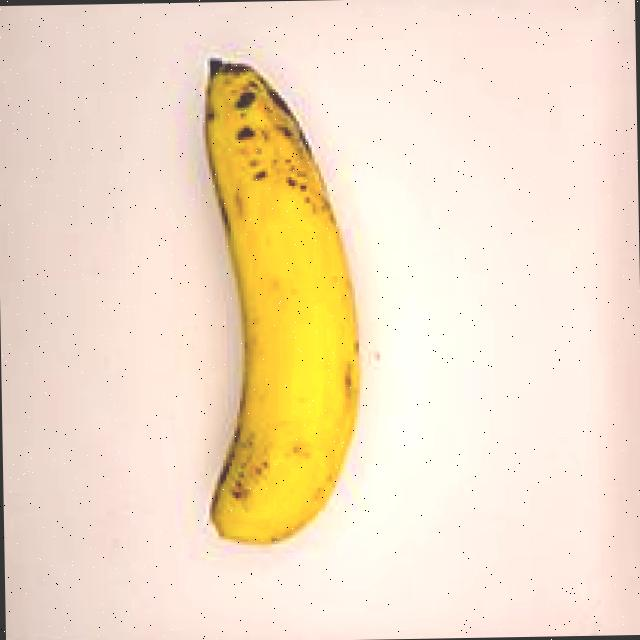Overripe: (122, 29, 410, 574)
